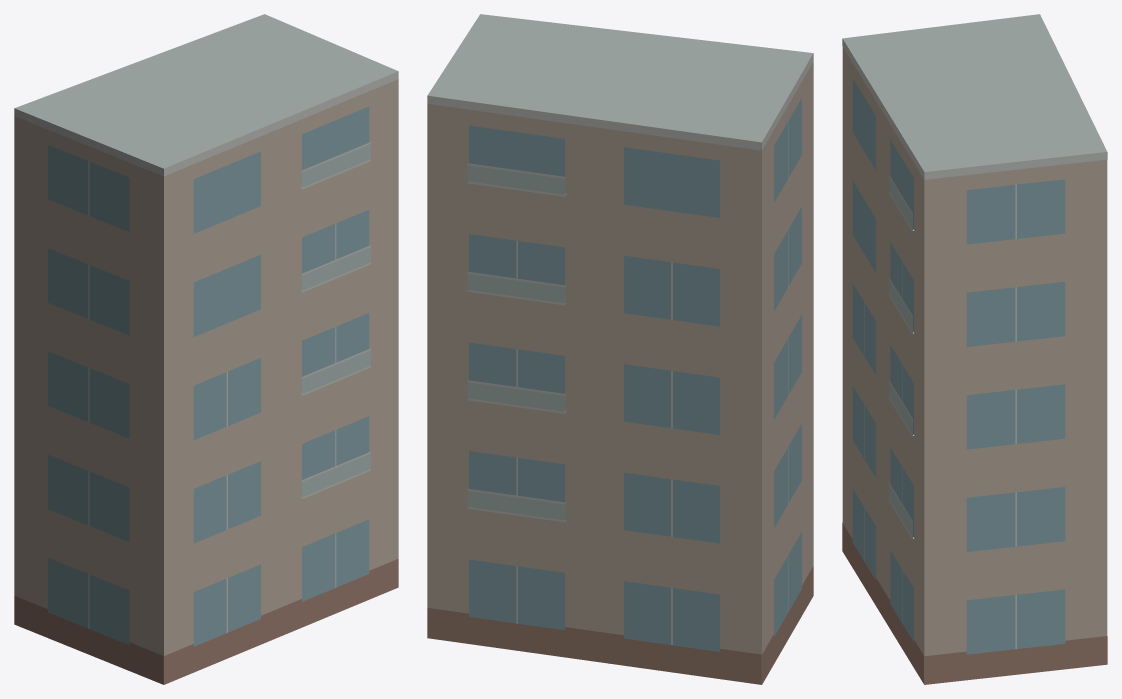
Rendered from survey-upis-32832108.glb.
The picture shows the model from 3 angles, left to right: view 1: azimuth 30°, elevation 25°; view 2: azimuth 150°, elevation 25°; view 3: azimuth 270°, elevation 25°; orthographic projection. The views are drawn at different scales.
Visible parts, largest first — view 1: survey-upis-32832108.tmp; view 2: survey-upis-32832108.tmp; view 3: survey-upis-32832108.tmp.
Boxes of the visible parts, left/top/right/bottom form: survey-upis-32832108.tmp: left=14, top=14, right=398, bottom=684; survey-upis-32832108.tmp: left=427, top=14, right=813, bottom=684; survey-upis-32832108.tmp: left=842, top=14, right=1107, bottom=684.
Bounding box in the file's own units: 10.72 × 16.2 × 7.6.
